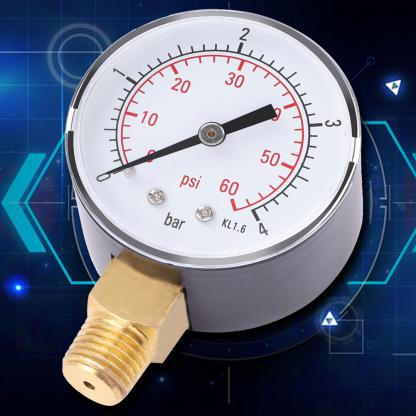needle: (107, 133, 203, 175)
